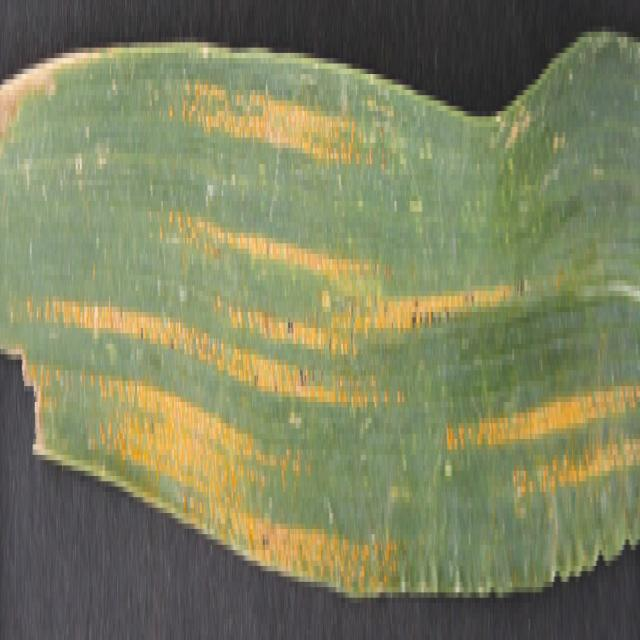leaf rust: (1, 5, 636, 582)
